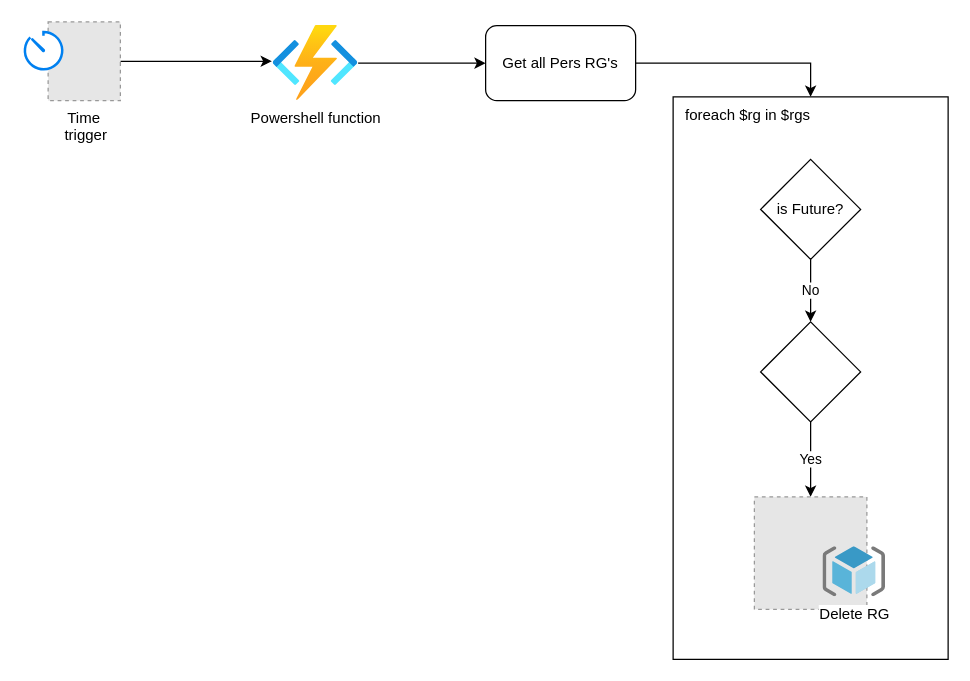
Some shapes in this 970 by 681 pixel diagram are drawn without their labels. Grey dashed boxes stand in for pictures. The centre of each missing label's shape, as x and y in pixels:
"1x day" belongs at point 42,51.
"30 days?" belongs at point 810,371.
